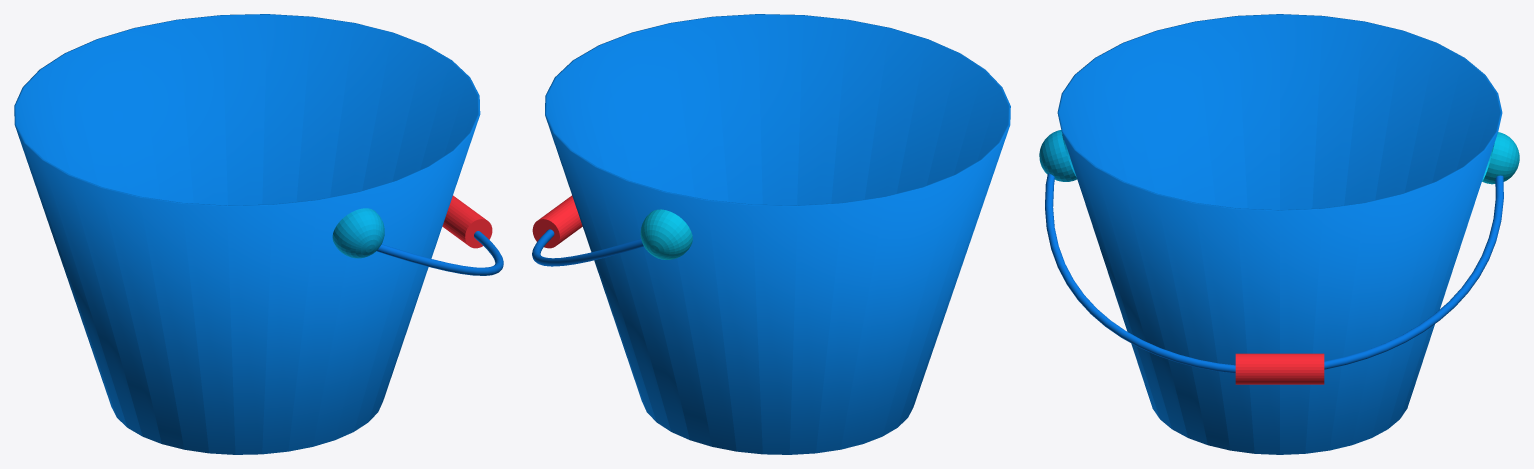
The model's file is bucket.fbx.
3 renders of one model, left to right at view 1: azimuth 30°, elevation 25°; view 2: azimuth 150°, elevation 25°; view 3: azimuth 270°, elevation 25°, orthographic.
Visible parts, largest first — view 1: 円柱.010, 球, NURBSカーブ, 円柱.011; view 2: 円柱.010, 球.001, 円柱.011, NURBSカーブ; view 3: 円柱.010, NURBSカーブ, 円柱.011, 球, 球.001.
Part boxes in pixels (x1,y1,x2,y2): 円柱.010: (14,14,480,454); 球: (332,208,384,258); NURBSカーブ: (376,231,503,275); 円柱.011: (442,195,492,248); 円柱.010: (545,14,1010,454); 球.001: (640,209,692,259); 円柱.011: (532,195,582,248); NURBSカーブ: (532,229,643,266); 円柱.010: (1057,14,1502,454); NURBSカーブ: (1045,173,1503,373); 円柱.011: (1235,353,1324,384); 球: (1039,130,1077,181); 球.001: (1482,132,1519,184).
Bounding box in the file's own units: 219 × 141 × 216.
